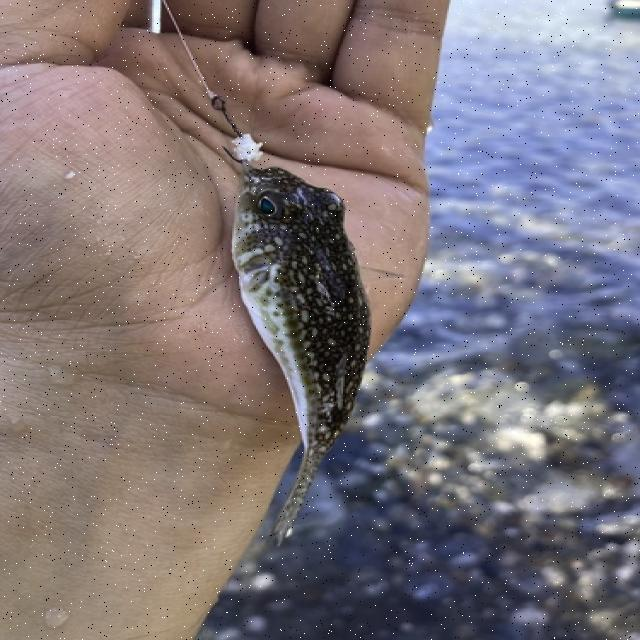Balik: (233, 162, 370, 543)
